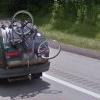Bicycle: (3, 3, 64, 69)
